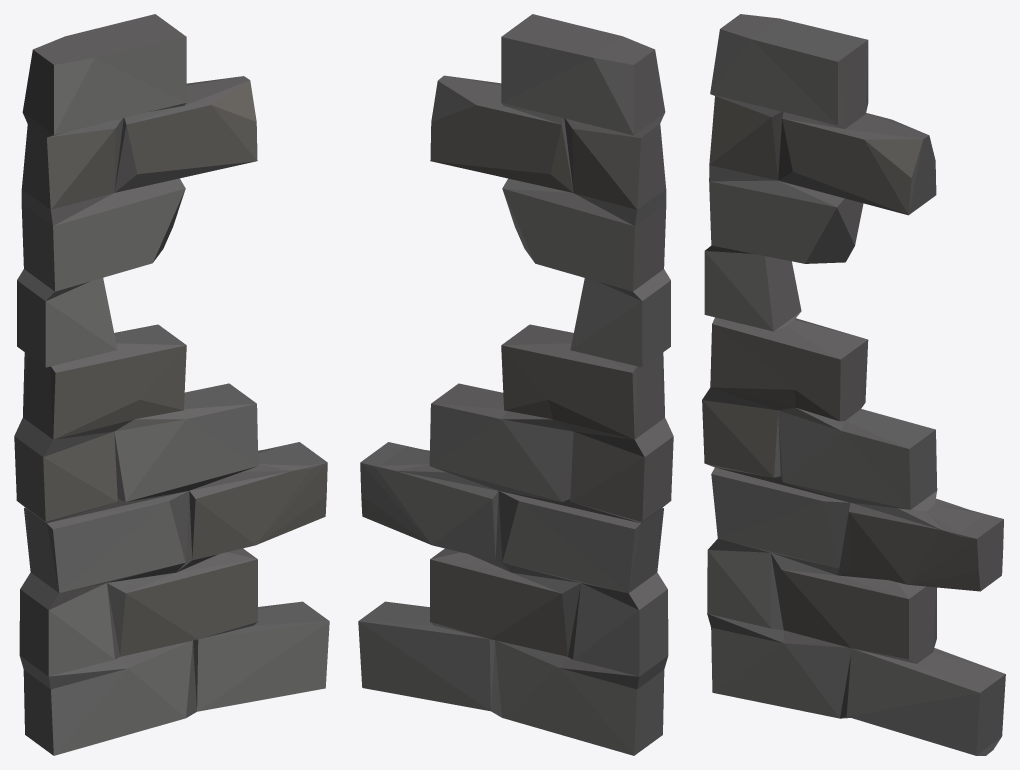
Rendered from SM_Env_Wall_Broken_Edge_01.FBX.
The picture shows the model from 3 angles, left to right: view 1: azimuth 30°, elevation 25°; view 2: azimuth 150°, elevation 25°; view 3: azimuth 330°, elevation 25°; orthographic projection. The views are drawn at different scales.
Parts seen in each view (by area): view 1: SM_Env_Wall_Broken_Edge_01; view 2: SM_Env_Wall_Broken_Edge_01; view 3: SM_Env_Wall_Broken_Edge_01.
Boxes of the visible parts, bbox=[...] form: SM_Env_Wall_Broken_Edge_01: bbox=[14, 14, 329, 755]; SM_Env_Wall_Broken_Edge_01: bbox=[358, 14, 673, 755]; SM_Env_Wall_Broken_Edge_01: bbox=[702, 14, 1005, 755].
Size of what is drawn, in the model's own units: 220 by 43.28 by 508.
